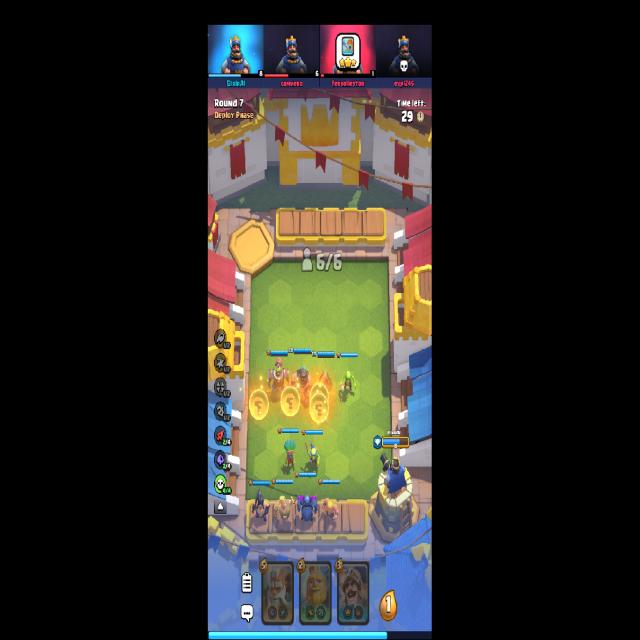bandit: (318, 367, 332, 396)
barbarian: (318, 498, 339, 526)
card_monk: (261, 560, 294, 624)
card_prince: (337, 560, 370, 626)
card_royal_giant: (298, 561, 332, 626)
dart_goblin: (282, 439, 298, 472)
executioner: (250, 486, 270, 524)
goblin: (341, 371, 357, 399)
goblin_machine: (267, 356, 291, 401)
golden_knight: (273, 495, 295, 524)
mega_knight: (286, 368, 316, 402)
pekka: (296, 494, 319, 526)
spear_goblin: (304, 440, 322, 469)
